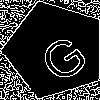G: (30, 25, 92, 86)
